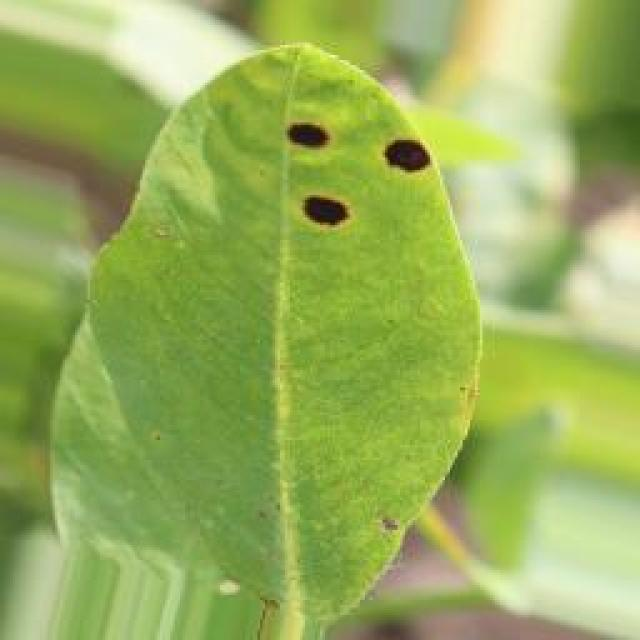Yellowish: (254, 81, 438, 252)
